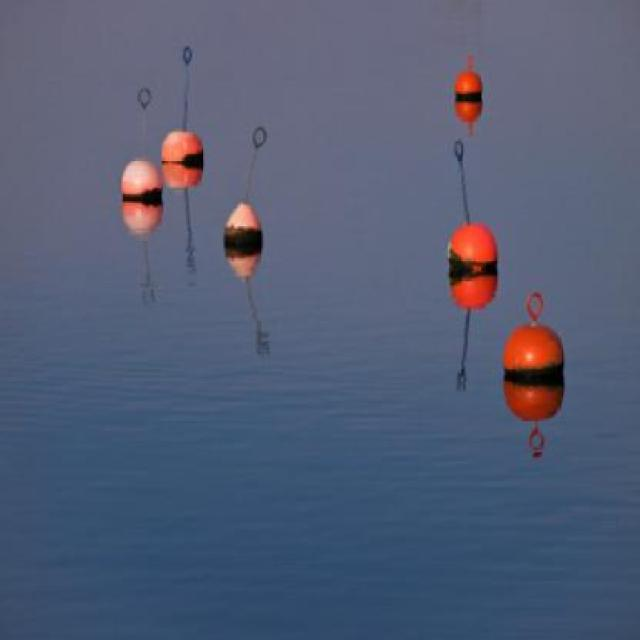a: (494, 283, 576, 470), (436, 131, 503, 319), (217, 110, 273, 279), (158, 35, 215, 195), (114, 74, 176, 217), (444, 50, 493, 138)
